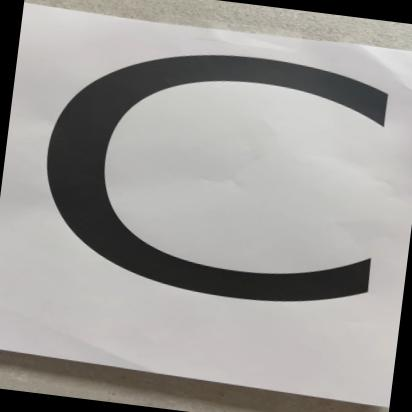seat: (0, 5, 412, 397)
